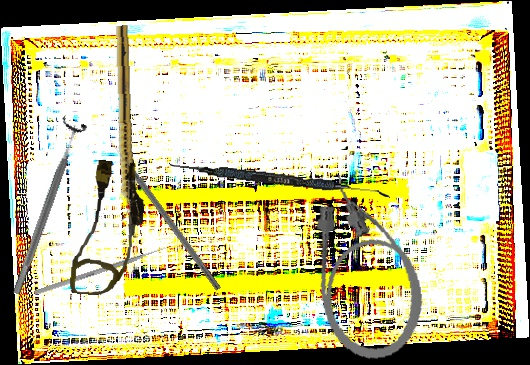Cannula: (305, 166, 430, 365), (69, 158, 148, 299)
Fixation Ring: (2, 116, 90, 299)
Handpiece: (112, 25, 135, 221)
Hook Surgical: (107, 137, 223, 292)
Pusher: (34, 243, 173, 296)
Spatula Surgical: (167, 161, 392, 198)
